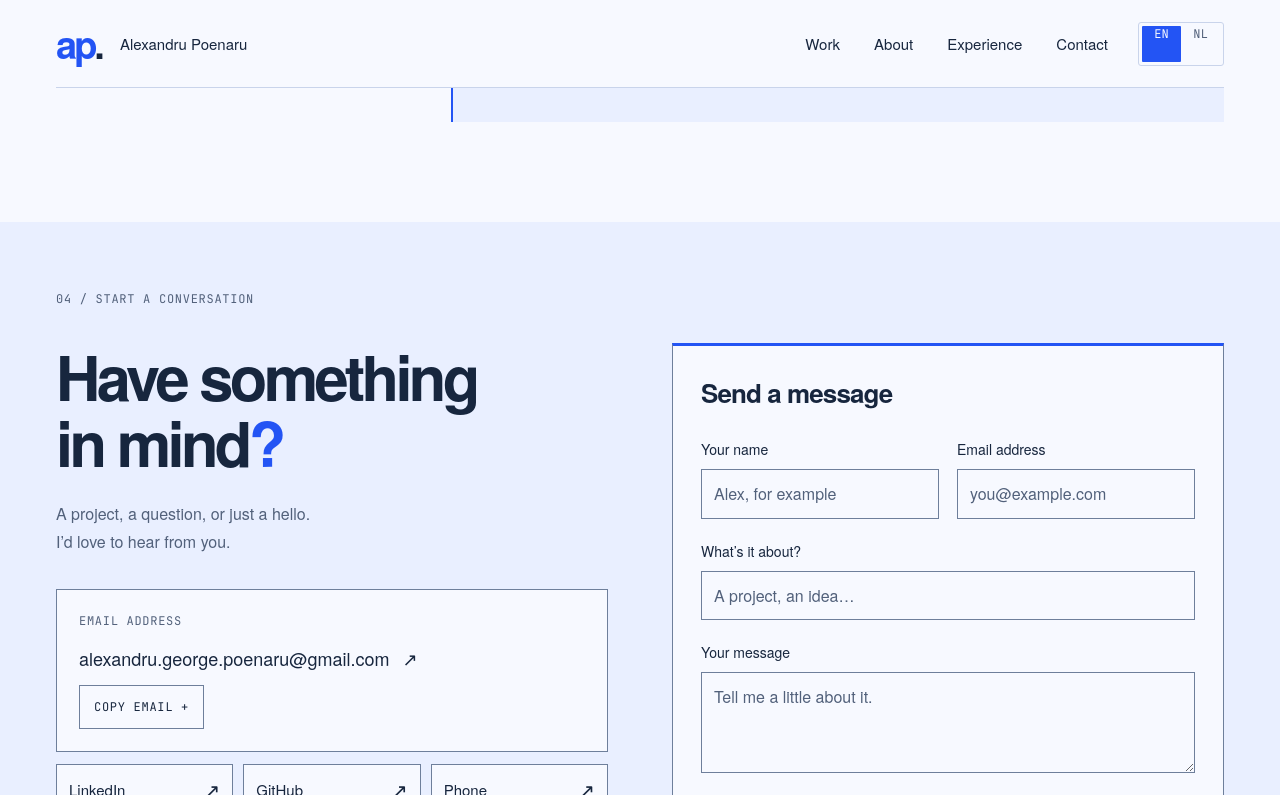
Scenario: contact keeps the draft after failure and can retry
(page scrolled)
Step 1. Type " Test Visitor " into the field labelled "Your name" → (820, 494), box [701, 469, 939, 518]
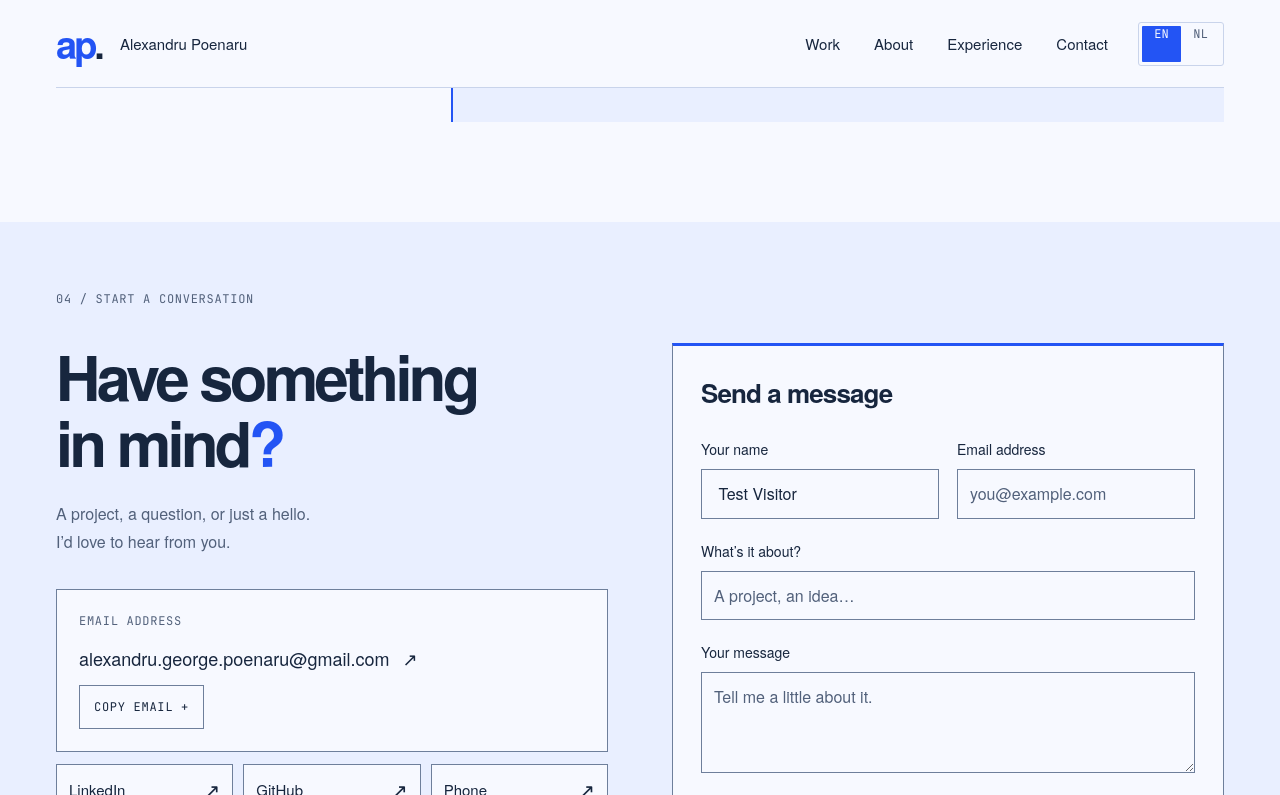
Step 2. Type "test@example.com" into the field labelled "Email address" → (1076, 494), box [957, 469, 1195, 518]
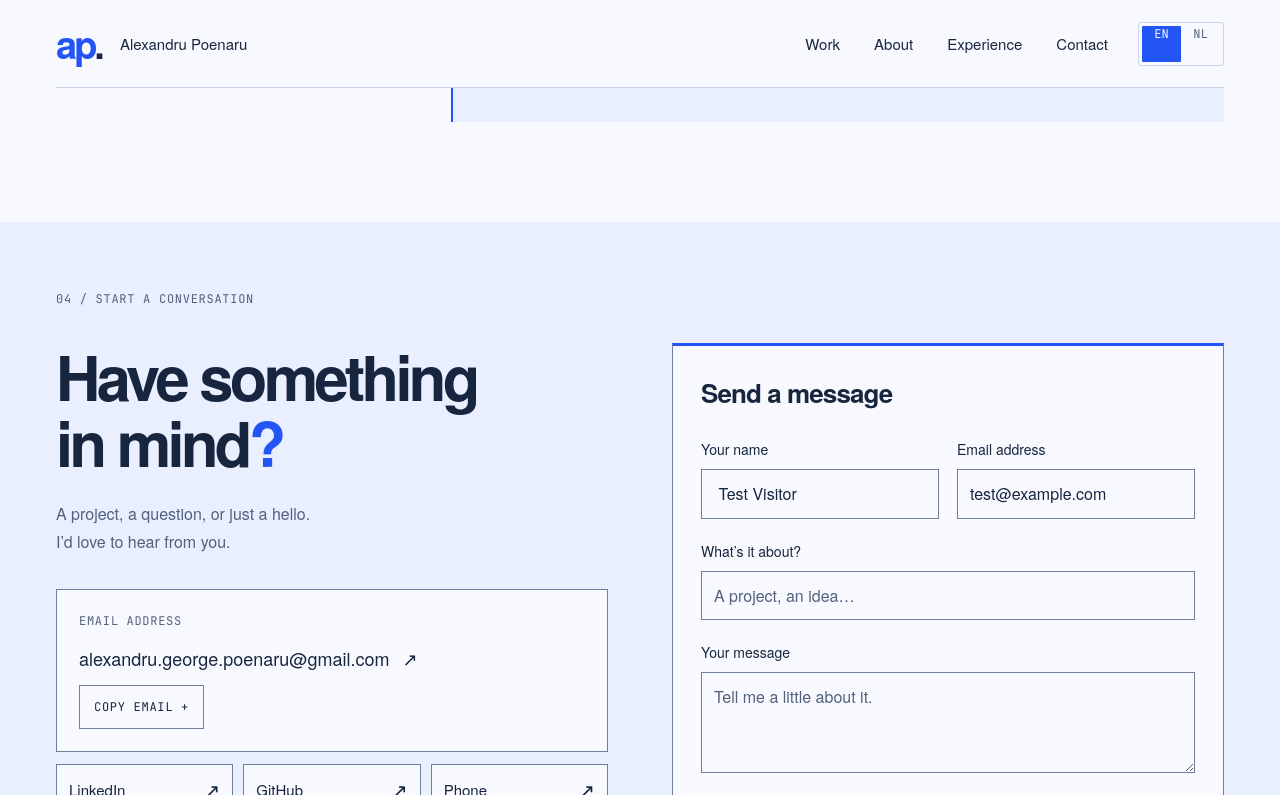
Step 3. Type " A project " into the field labelled "What’s it about?" → (948, 595), box [701, 570, 1195, 620]
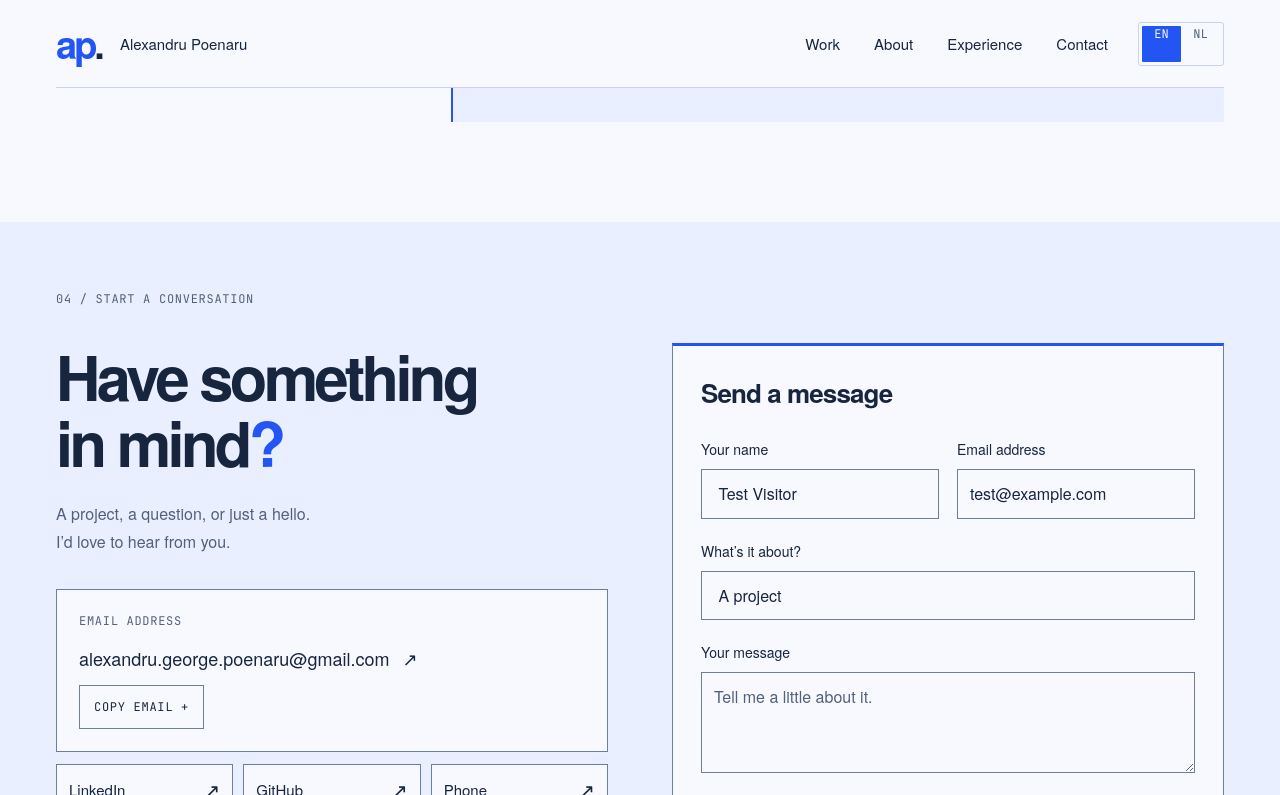
Step 4. Type " Hello Alex " into the text box labelled "Your message" → (948, 722), box [701, 672, 1195, 773]
(page scrolled)
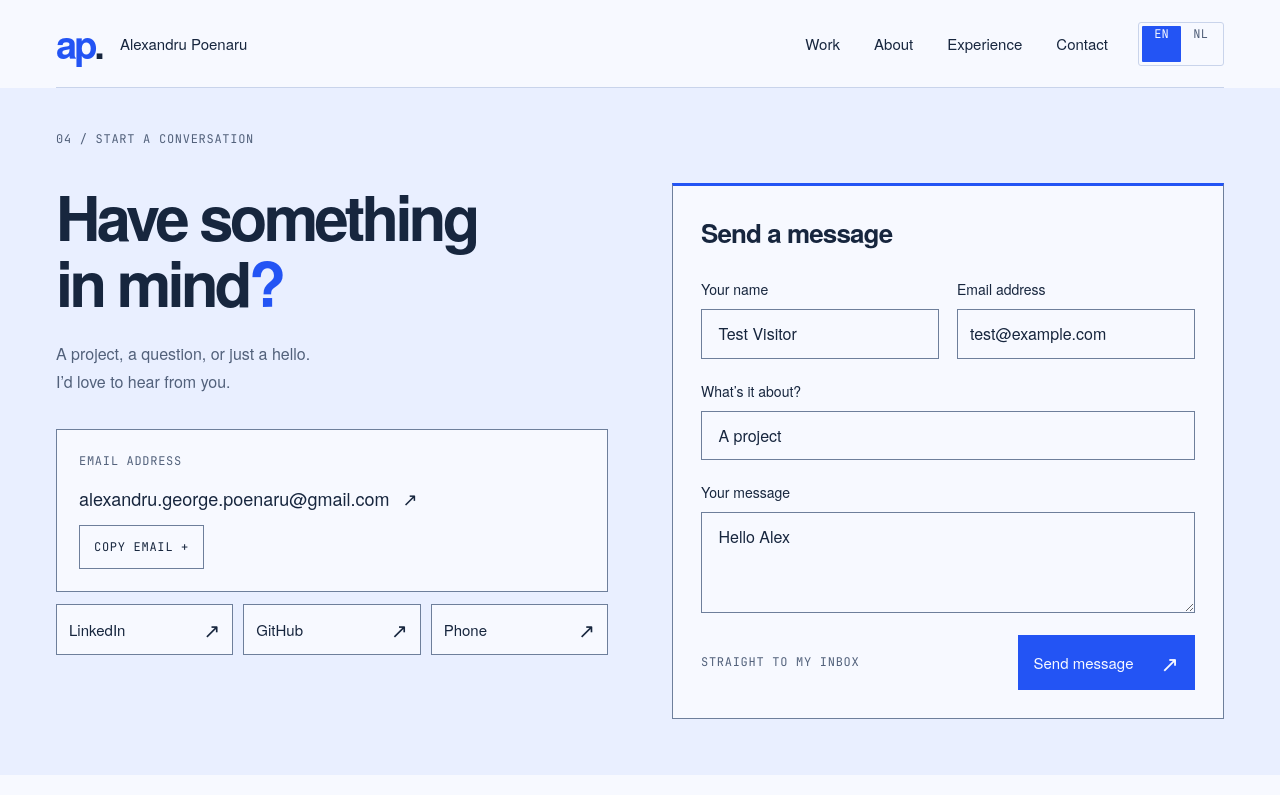
Step 5. Submit the form "Send a message", box [672, 183, 1224, 719]
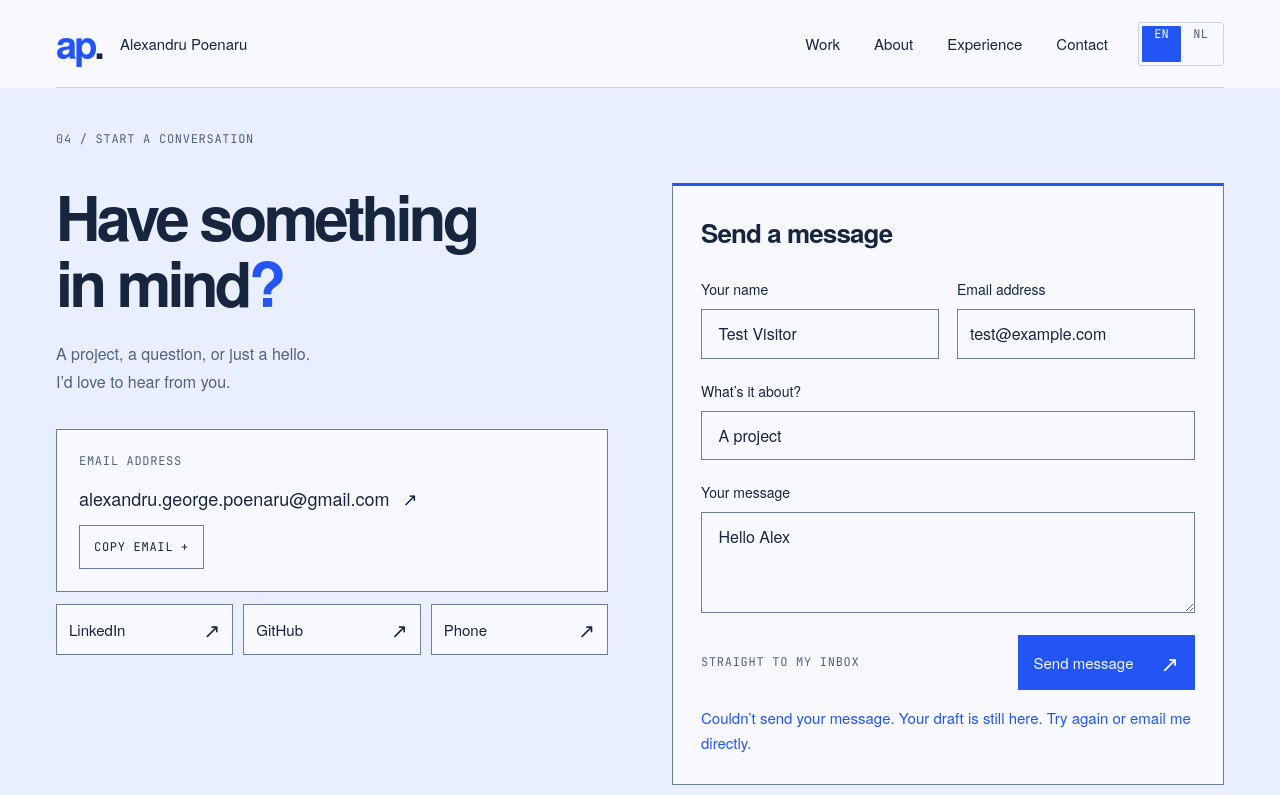
Expected: the text "Couldn’t send your message" is shown, [701, 707, 1191, 753]
Step 6. Submit the form "Send a message", box [672, 183, 1224, 785]
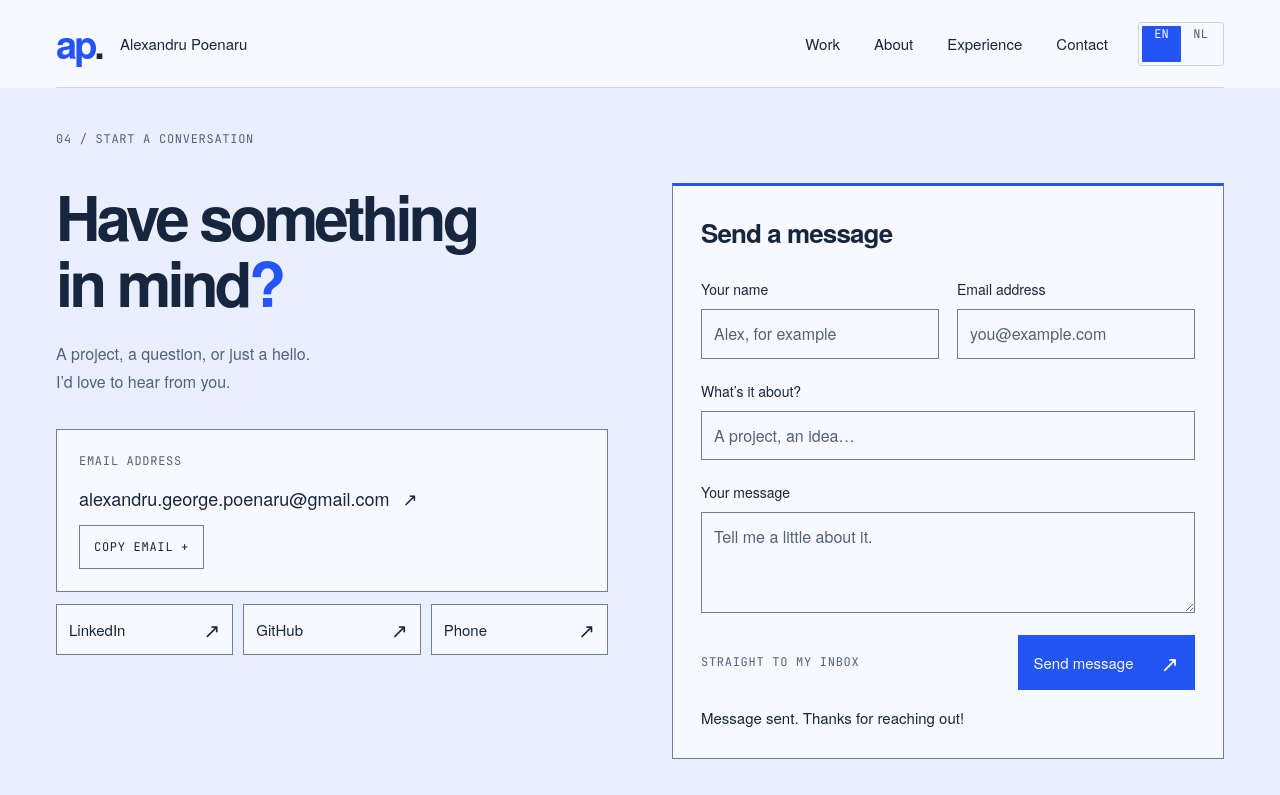
Expected: the text "Message sent. Thanks for reaching out!" is shown, [701, 707, 964, 728]
